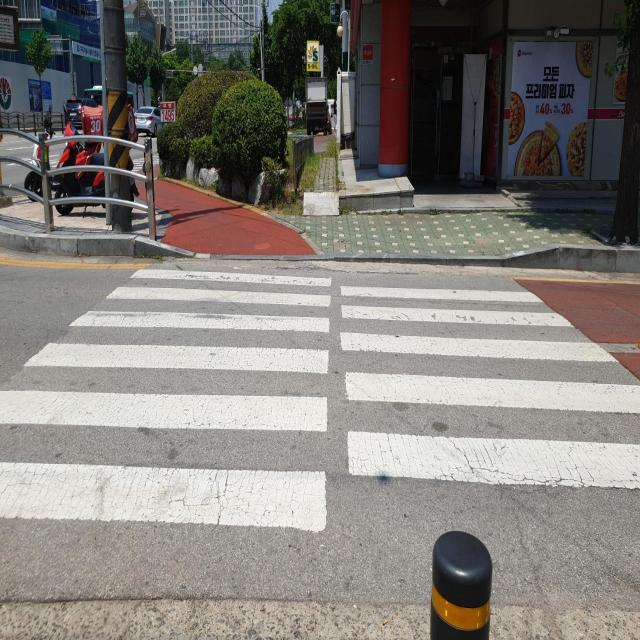횡단보도: (0, 266, 640, 534)
